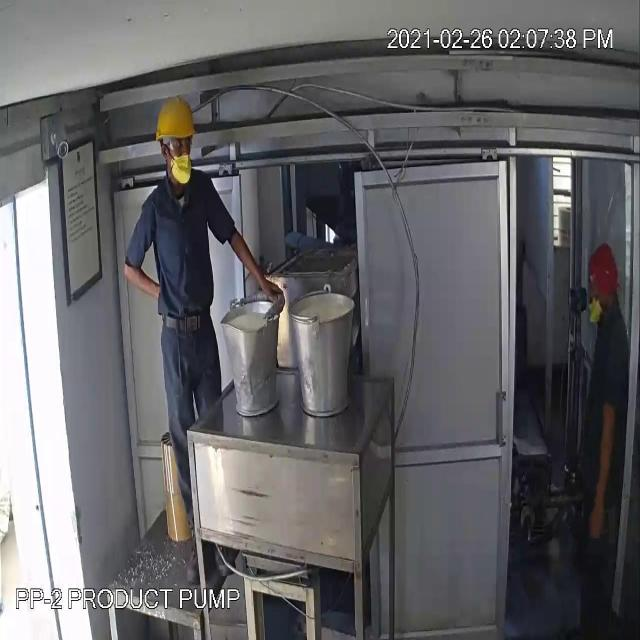helmet: (150, 90, 202, 148)
